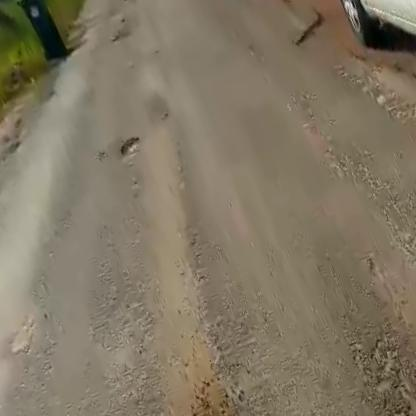pothole: (111, 130, 147, 162)
